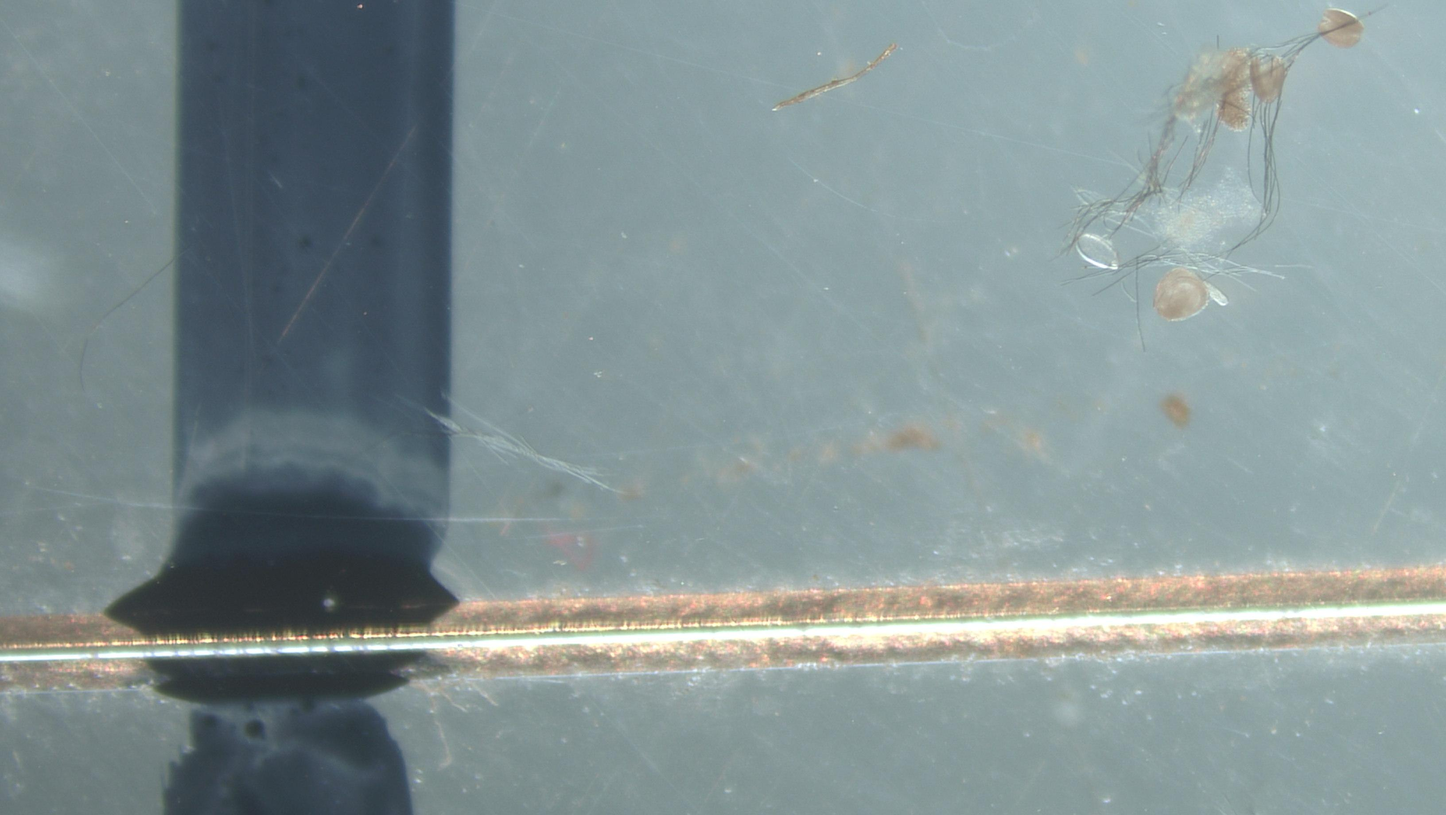live: (1154, 268, 1210, 321), (1318, 8, 1364, 48), (1251, 56, 1290, 103)
